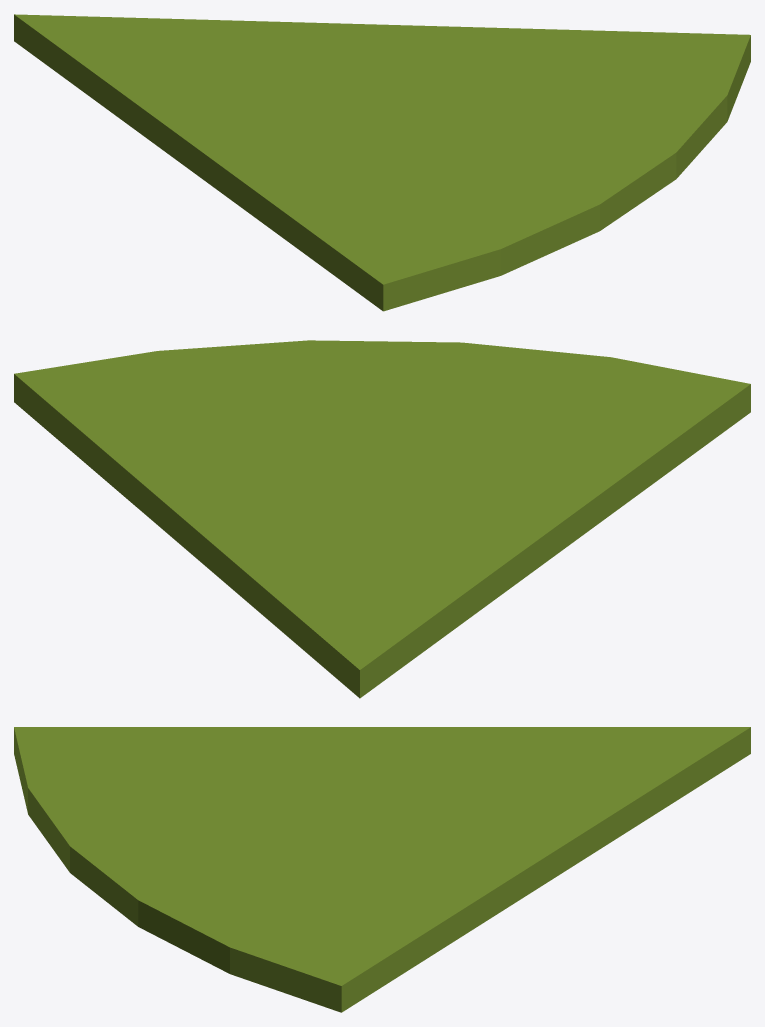
File: forest_5.glb
The picture shows the model from 3 angles, top to bottom: view 1: azimuth 30°, elevation 25°; view 2: azimuth 150°, elevation 25°; view 3: azimuth 270°, elevation 25°; orthographic projection. The views are drawn at different scales.
Parts seen in each view (by area): view 1: Cylinder; view 2: Cylinder; view 3: Cylinder.
Part boxes in pixels (<box>): Cylinder: <box>14,14,750,311</box>; Cylinder: <box>14,340,750,698</box>; Cylinder: <box>14,727,750,1012</box>.
Bounding box in the file's own units: 83.15 × 4 × 100.
